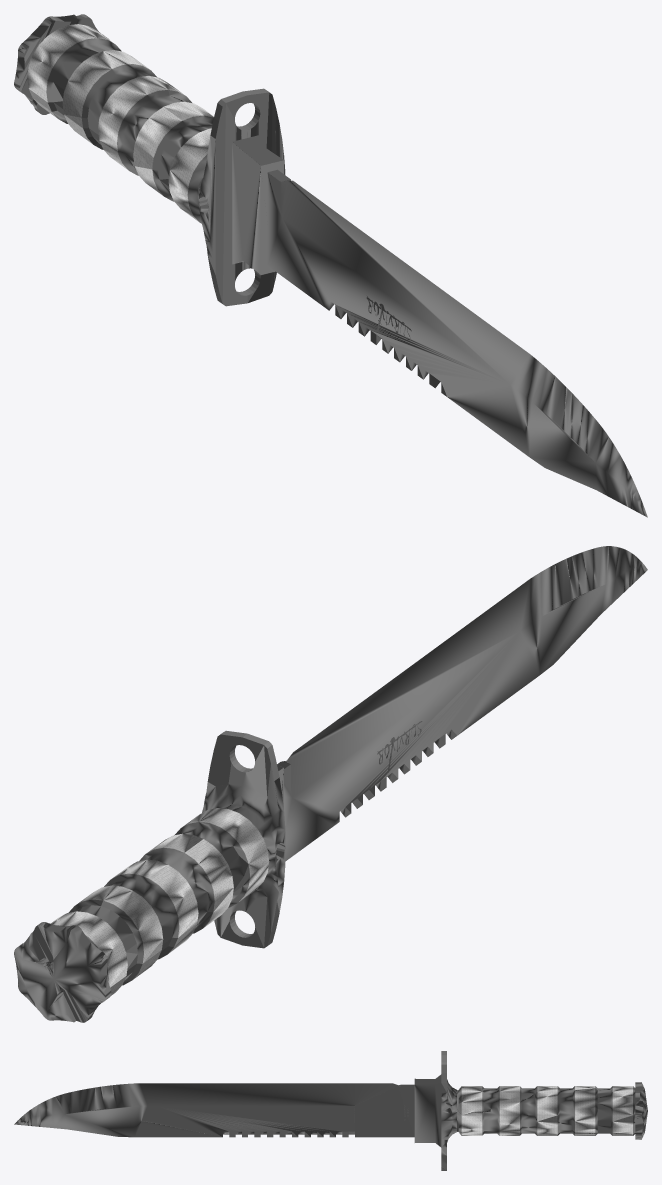
File: model_align.obj
3 renders of one model, top to bottom at view 1: azimuth 30°, elevation 25°; view 2: azimuth 150°, elevation 25°; view 3: azimuth 270°, elevation 25°, orthographic. The views are drawn at different scales.
Bounding box in the file's own units: 0.0204 × 0.0443 × 0.2291.
6 materials, 6 textured.
